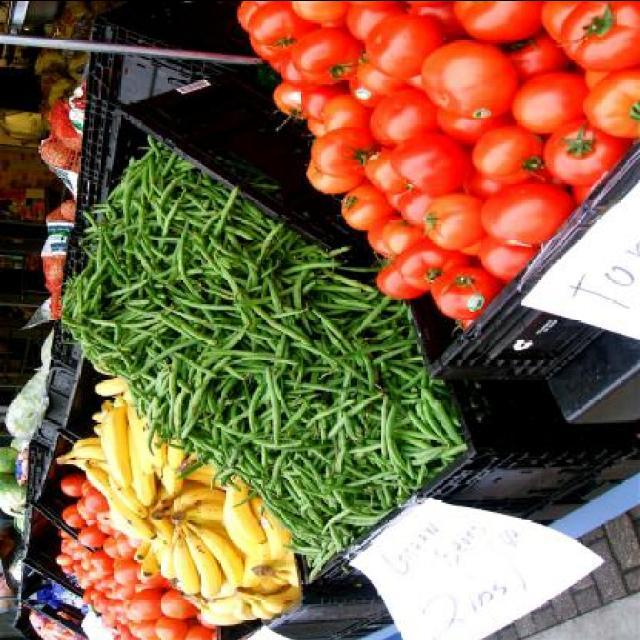Tomato: (235, 1, 638, 327), (54, 468, 220, 640), (486, 176, 568, 238)
